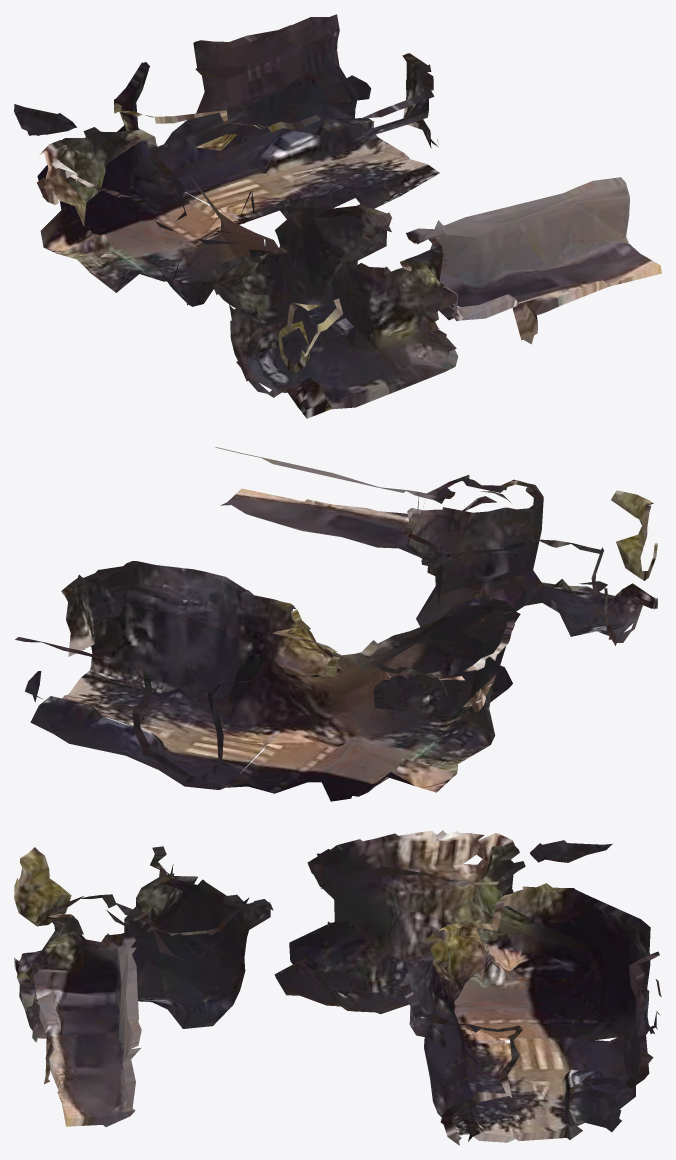
The picture shows the model from 3 angles, top to bottom: view 1: azimuth 30°, elevation 25°; view 2: azimuth 150°, elevation 25°; view 3: azimuth 270°, elevation 25°; orthographic projection. The views are drawn at different scales.
Visible parts, largest first — view 1: Mesh_0; view 2: Mesh_0; view 3: Mesh_0.
Part boxes in pixels (x1,y1,x2,y2): Mesh_0: (14,14,661,418); Mesh_0: (15,447,657,801); Mesh_0: (14,830,661,1145).
Size of the model in its own units: 32.39 by 8.69 by 40.39.
1 material, 1 textured.
